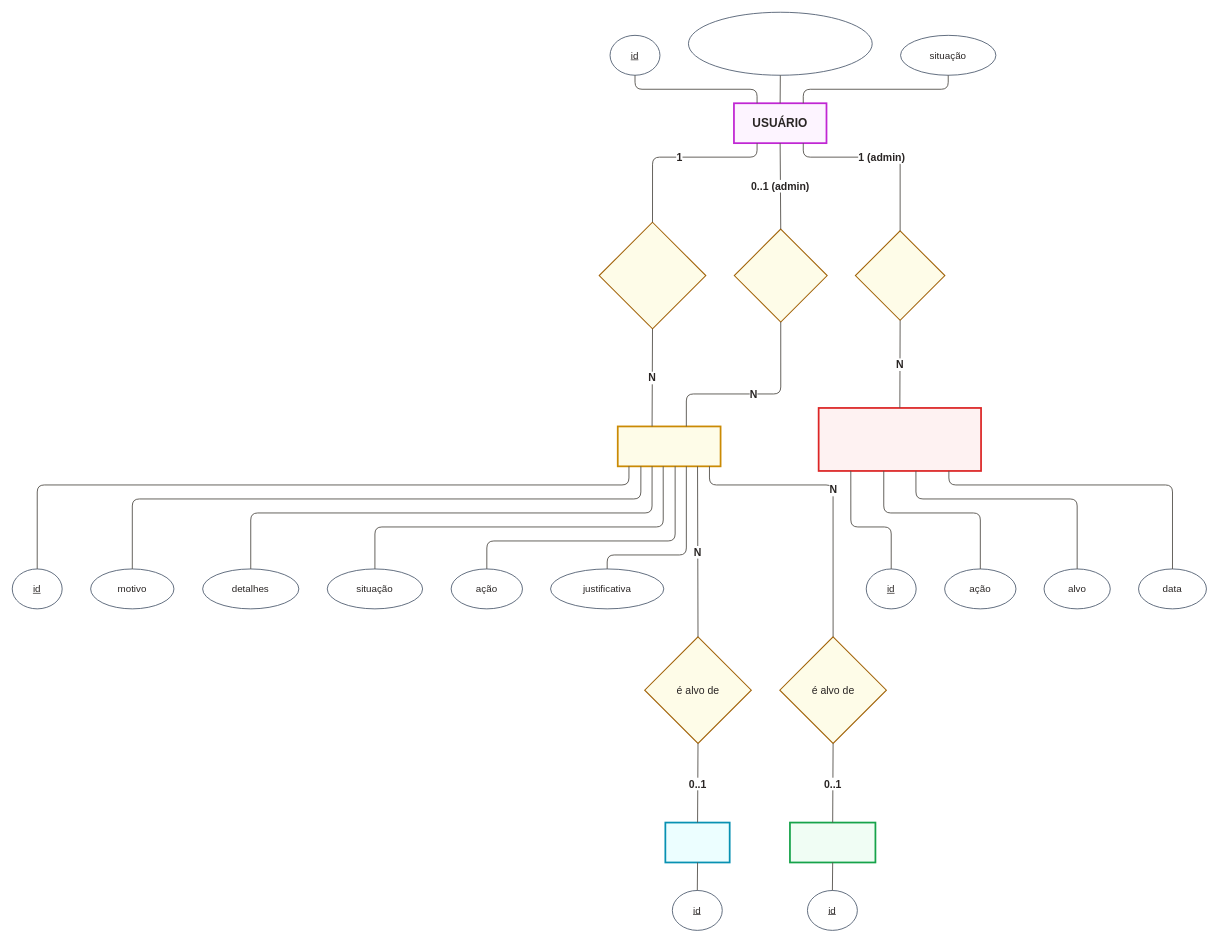
The diagram is 1219 pixels wide and 943 high, and some of its shapes have lost their labels. The centre of each missing label's shape, as x and y in pixels:
"analisa" belongs at point (780, 275).
"AÇÃO ADMINISTRATIVA" belongs at point (899, 439).
"denuncia" belongs at point (652, 275).
"DENÚNCIA" belongs at point (669, 446).
"EVENTO" belongs at point (832, 842).
"POST" belongs at point (697, 842).
"realiza" belongs at point (900, 275).
"tipo (usuário / admin)" belongs at point (780, 43).
